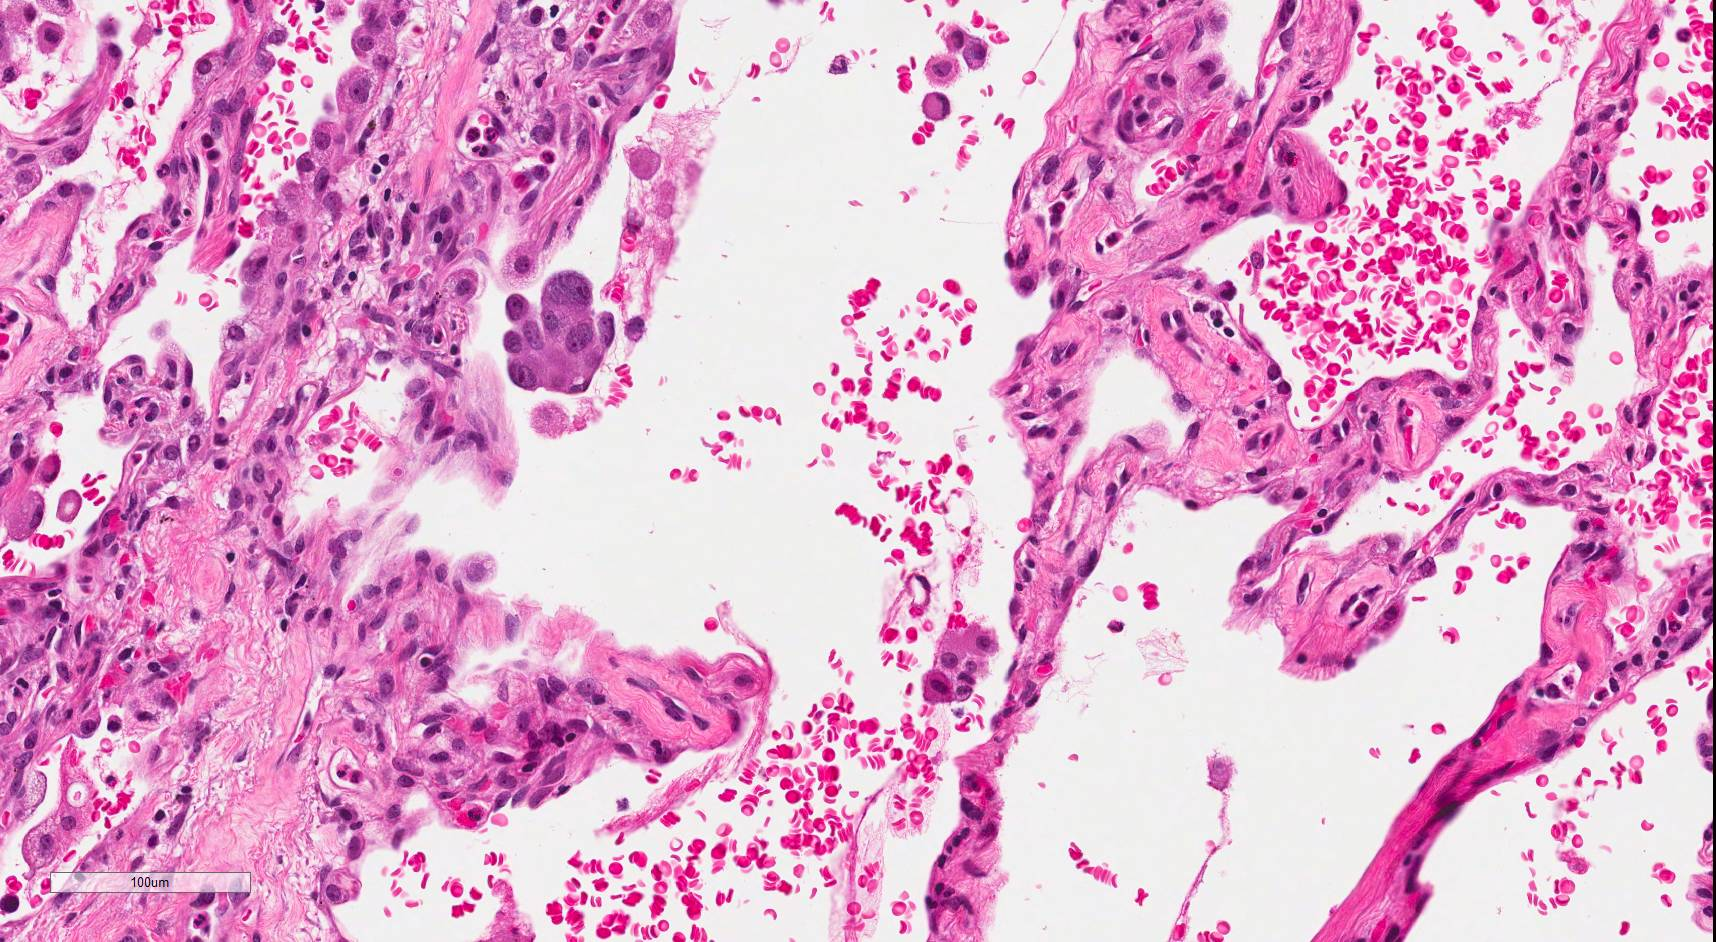stas: (494, 268, 617, 396)
